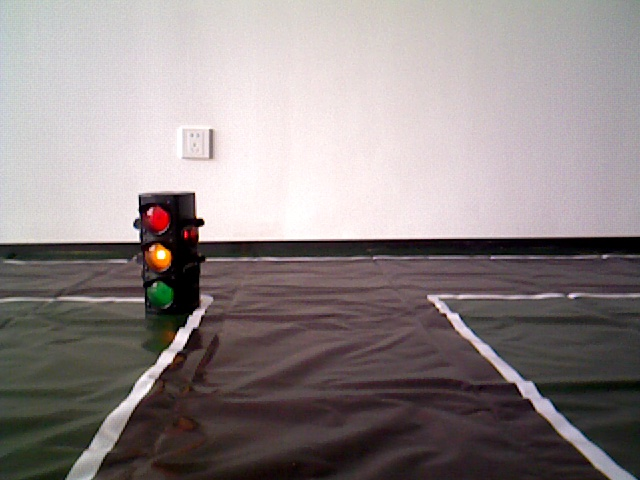yellow: (140, 190, 203, 320)
